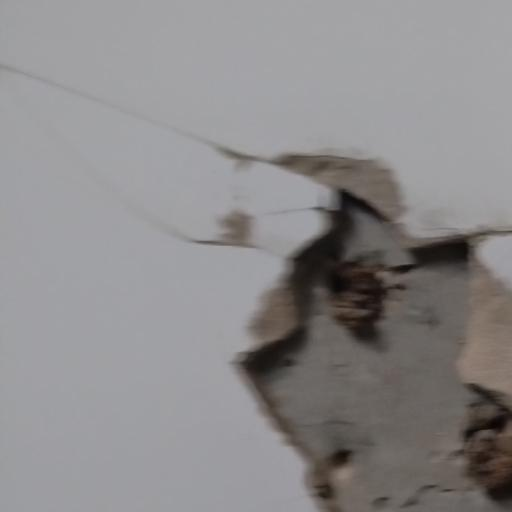spalling: (228, 125, 512, 512)
